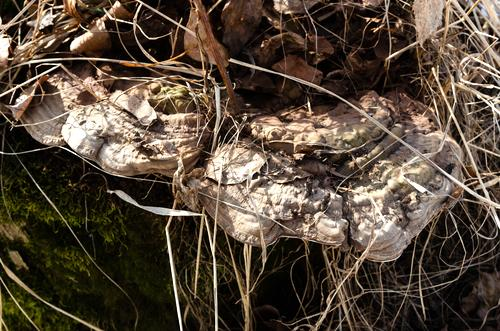Ganoderma - Fruit Body: (204, 89, 465, 266), (14, 55, 201, 172)
